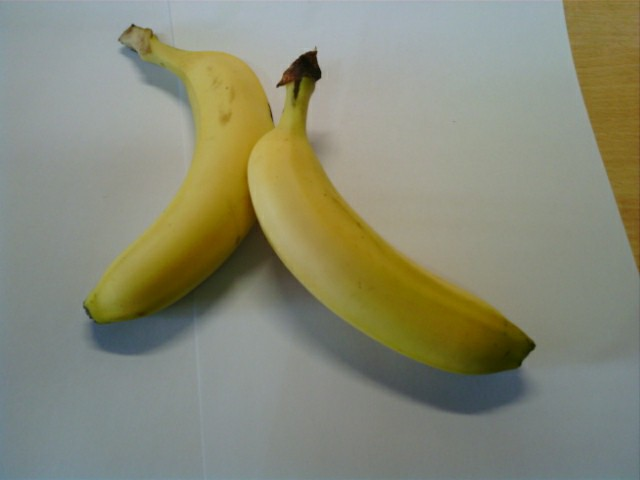fresh_banana: (244, 107, 534, 376), (82, 46, 272, 321)
